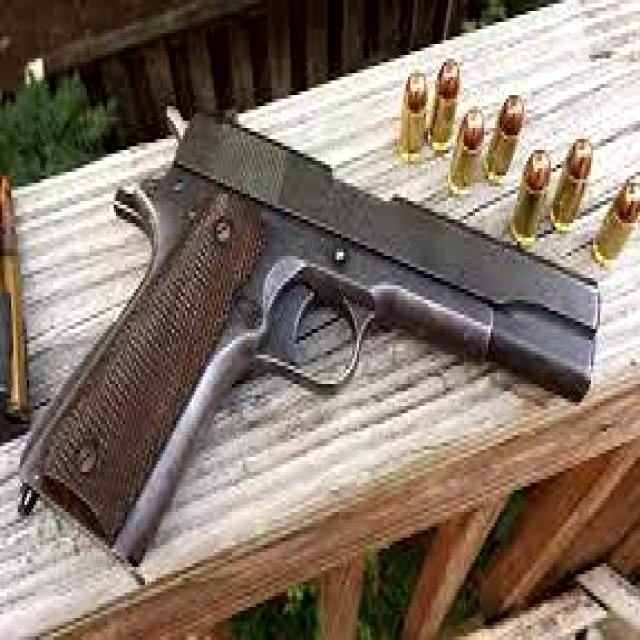semi automatic: (13, 70, 612, 572)
